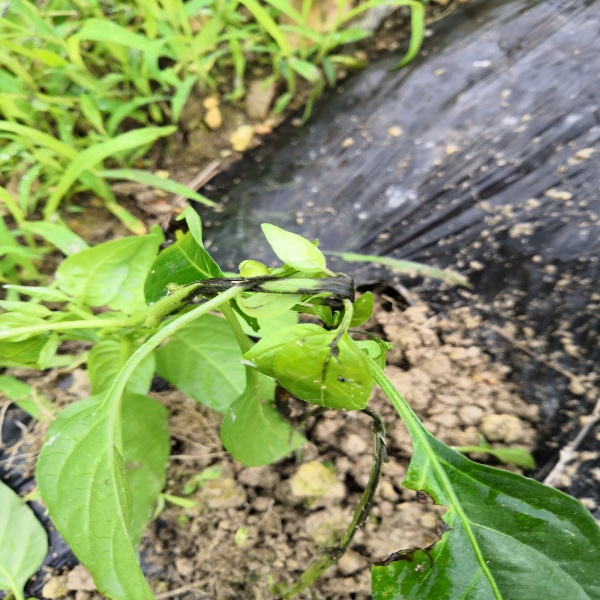blight: (322, 404, 384, 566), (184, 272, 271, 301), (417, 486, 456, 542), (294, 275, 353, 311), (370, 544, 443, 571)
